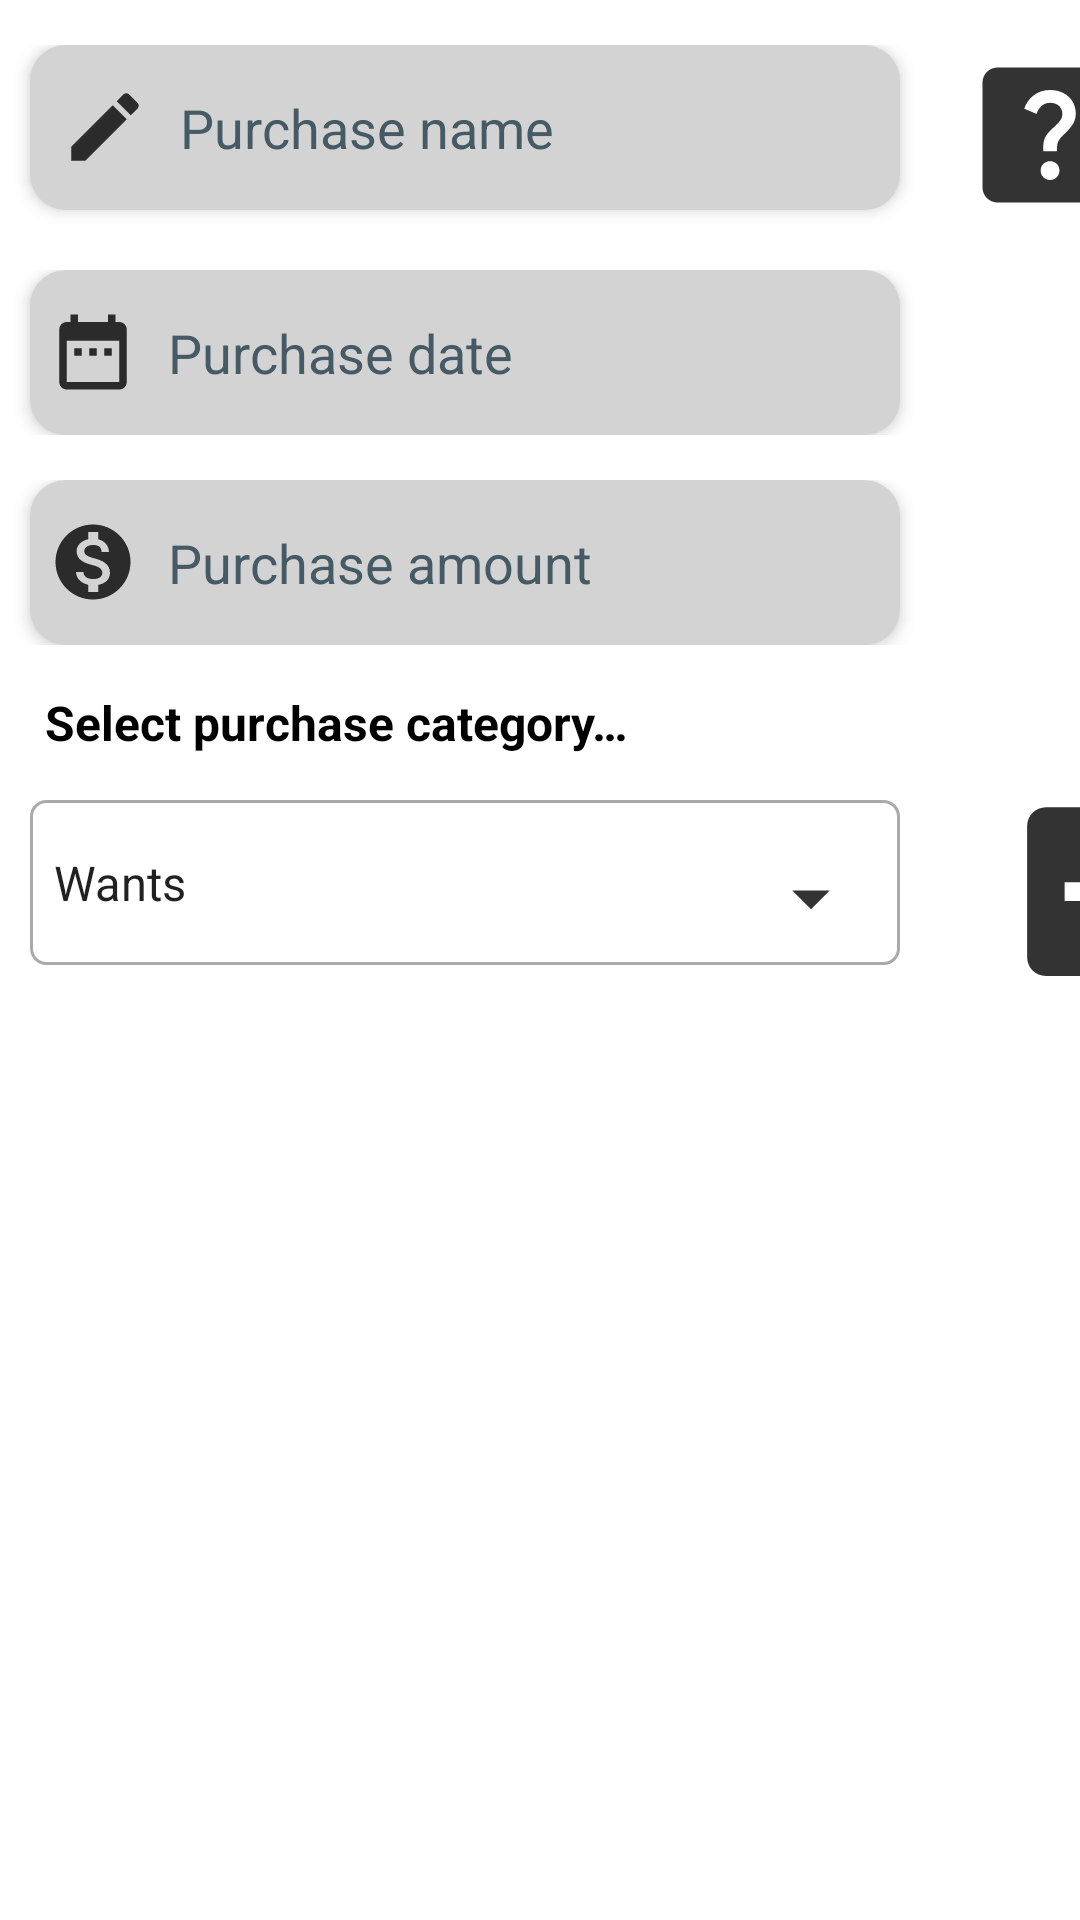

Icons on this 1080px×1920px Android screen, each with its box as (x1, y1, x2, y2):
Dropdown button: (792, 890, 830, 909)
